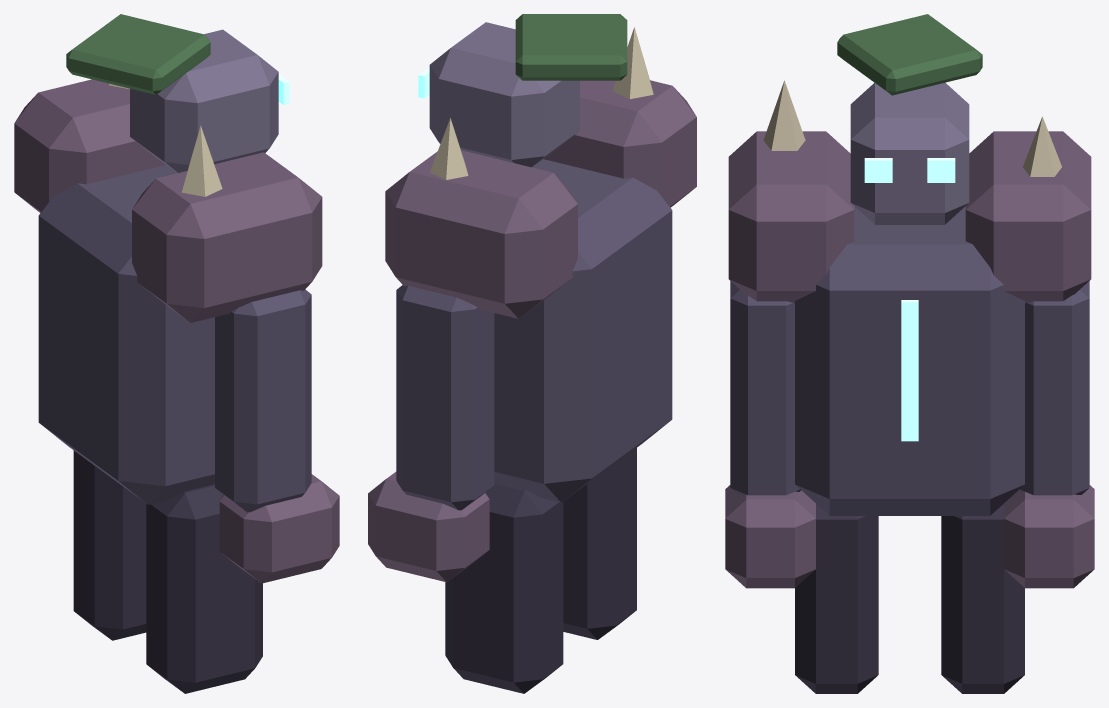
Rendered from colossus.glb.
3 renders of one model, left to right at view 1: azimuth 30°, elevation 25°; view 2: azimuth 150°, elevation 25°; view 3: azimuth 270°, elevation 25°, orthographic.
Parts seen in each view (by area): view 1: colossus; view 2: colossus; view 3: colossus.
Part boxes in pixels (<box>): colossus: <box>14,14,339,693</box>; colossus: <box>368,14,696,693</box>; colossus: <box>725,14,1094,693</box>.
Bounding box in the file's own units: 0.6386 × 1.97 × 1.06.
